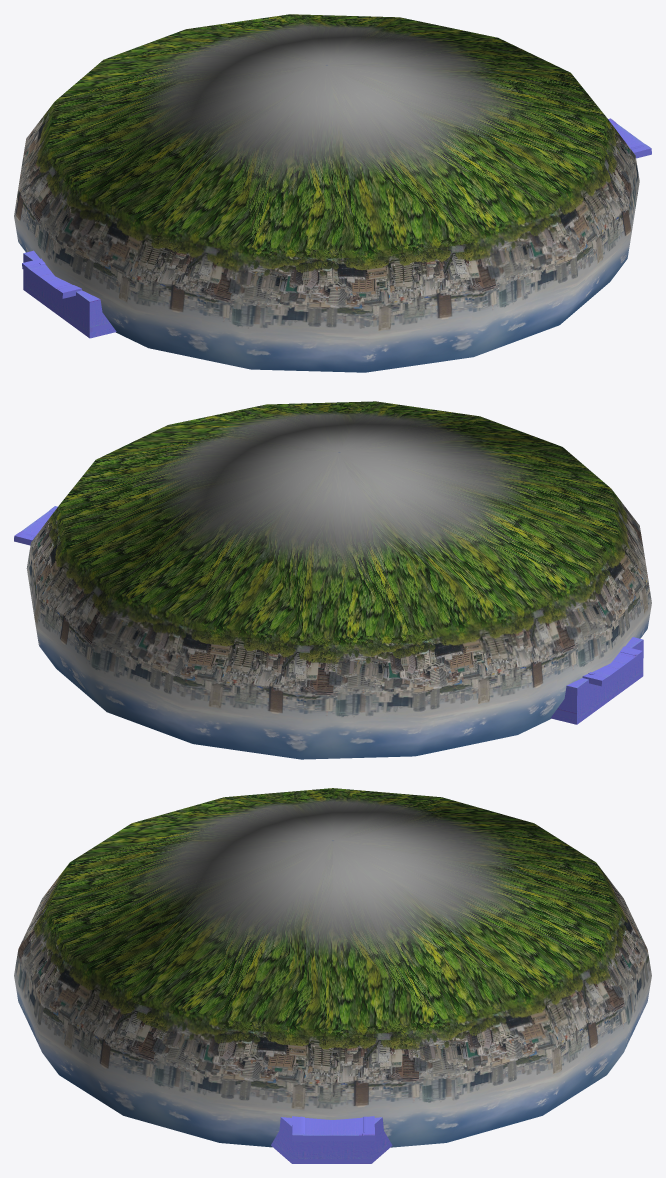
Rendered from Bridge.glb.
The picture shows the model from 3 angles, top to bottom: view 1: azimuth 30°, elevation 25°; view 2: azimuth 150°, elevation 25°; view 3: azimuth 270°, elevation 25°; orthographic projection.
Parts seen in each view (by area): view 1: Bridge; view 2: Bridge; view 3: Bridge.
Boxes of the visible parts, box(x1,y1,x2,y2) form: Bridge: box(14, 14, 651, 372); Bridge: box(14, 401, 651, 759); Bridge: box(14, 788, 651, 1163).
Size of the model in its own units: 668 by 200 by 620.
8 materials, 8 textured.
